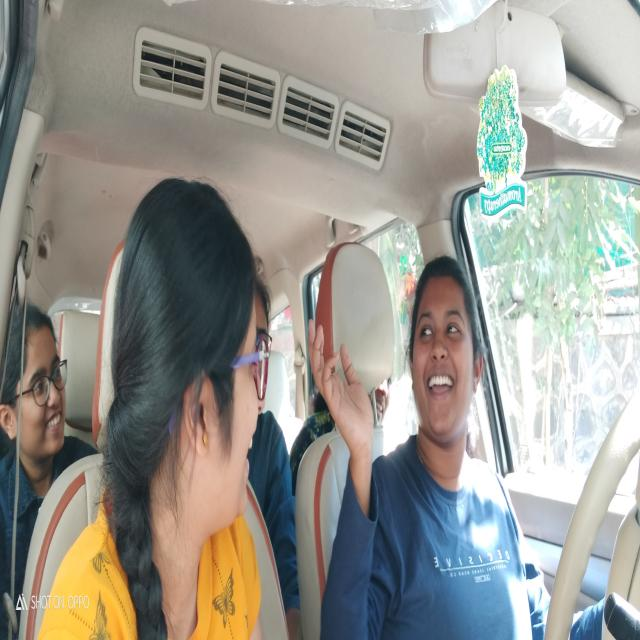LeftRight: (402, 256, 487, 463)
person: (110, 168, 268, 525), (2, 302, 77, 463), (252, 240, 278, 424)
talking: (423, 364, 457, 410), (247, 424, 258, 488)
